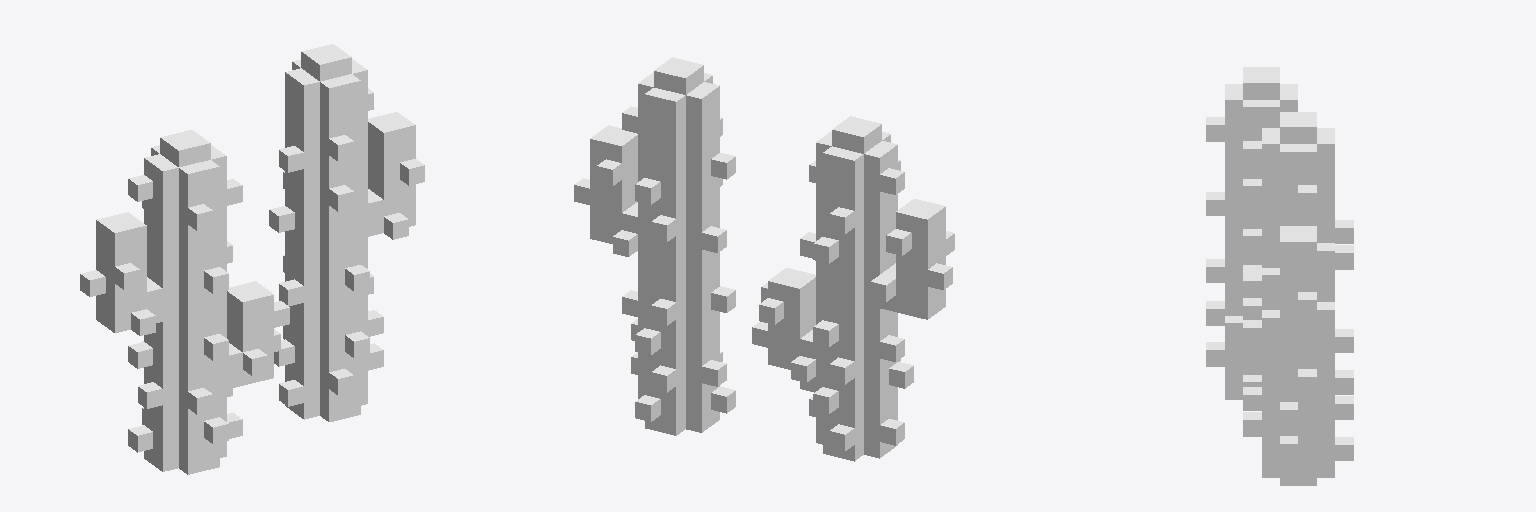
File: Cactus2x2.obj
3 views of the same model, side by side, from view 1: azimuth 30°, elevation 25°; view 2: azimuth 150°, elevation 25°; view 3: azimuth 270°, elevation 25° (orthographic).
Parts seen in each view (by area): view 1: object 1; view 2: object 1; view 3: object 1.
Boxes of the visible parts, x1,y1,x2,y2 form: object 1: [80, 44, 424, 474]; object 1: [574, 57, 954, 461]; object 1: [1206, 67, 1353, 485].
Bounding box in the file's own units: 2.2 × 2.1 × 0.8.